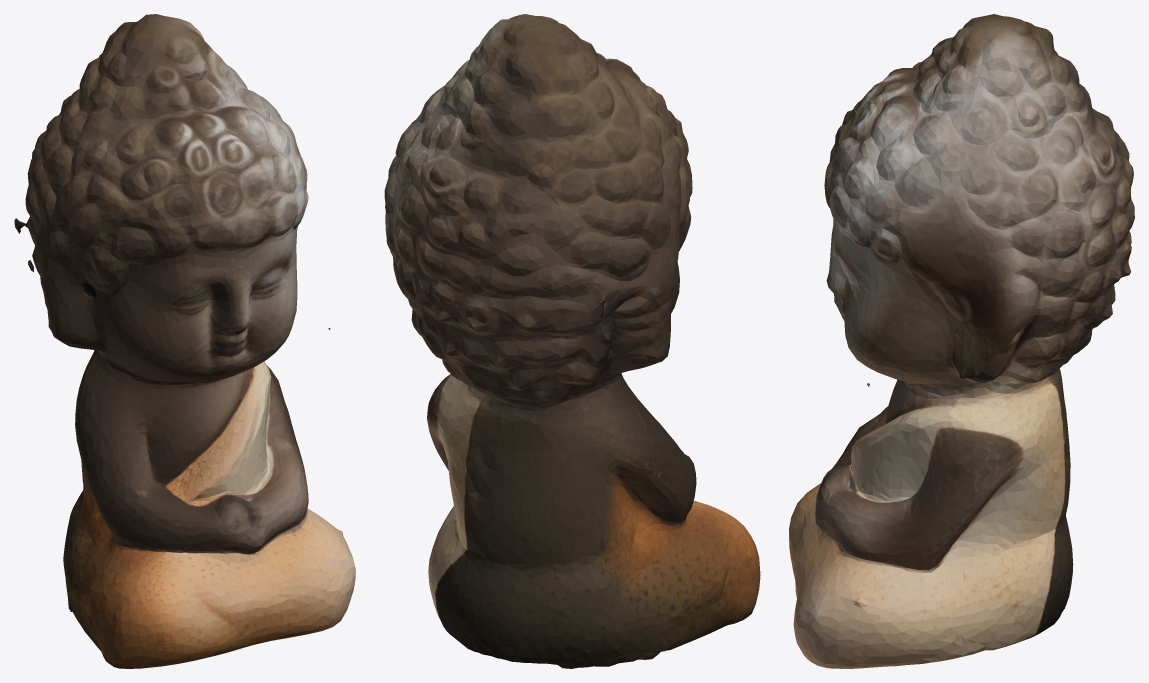
The picture shows the model from 3 angles, left to right: view 1: azimuth 30°, elevation 25°; view 2: azimuth 150°, elevation 25°; view 3: azimuth 270°, elevation 25°; orthographic projection. The views are drawn at different scales.
Visible parts, largest first — view 1: world; view 2: world; view 3: world.
Part boxes in pixels (left/top/right/bottom): world: left=14, top=14, right=355, bottom=668; world: left=384, top=14, right=760, bottom=668; world: left=789, top=14, right=1134, bottom=668.
Size of the model in its own units: 0.4663 by 0.9981 by 0.5223.
1 material, 1 textured.
